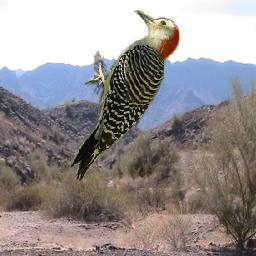Woodpecker: (69, 11, 183, 182)
